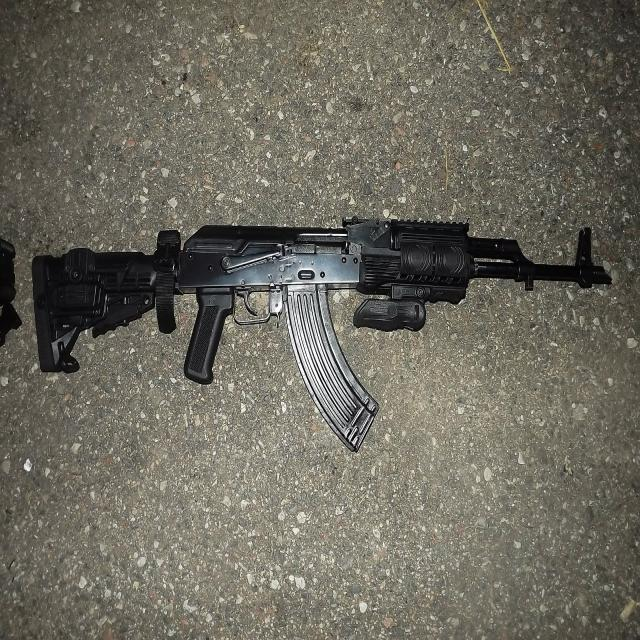firearm: (29, 214, 612, 452)
